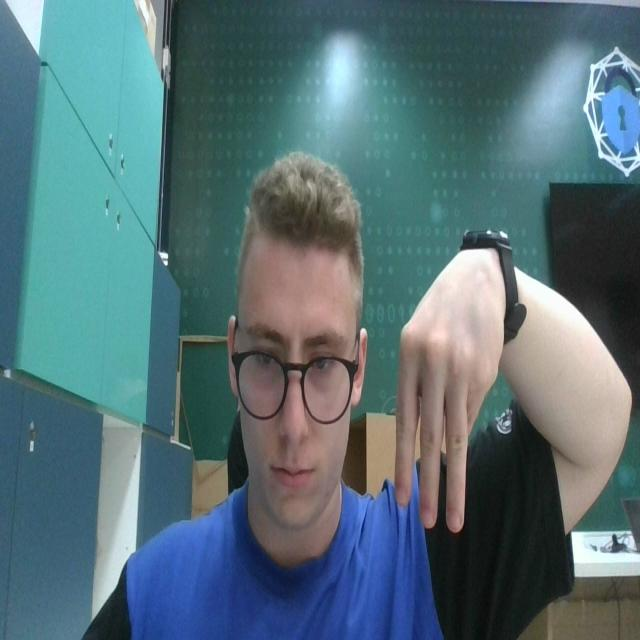M: (392, 235, 503, 537)
